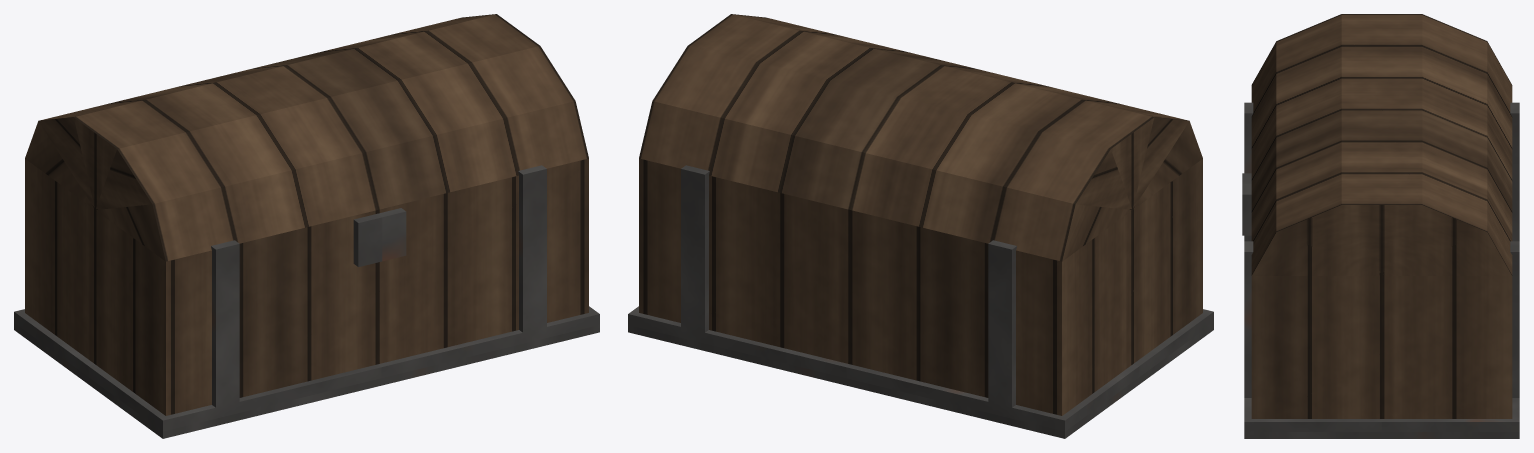
The model's file is Chest_Wood_LOD1.gltf.
The picture shows the model from 3 angles, left to right: view 1: azimuth 30°, elevation 25°; view 2: azimuth 150°, elevation 25°; view 3: azimuth 270°, elevation 25°; orthographic projection. The views are drawn at different scales.
Visible parts, largest first — view 1: Chest_Wood_LOD1; view 2: Chest_Wood_LOD1; view 3: Chest_Wood_LOD1.
Part boxes in pixels (left/top/right/bottom): Chest_Wood_LOD1: left=14, top=14, right=599, bottom=438; Chest_Wood_LOD1: left=628, top=14, right=1213, bottom=438; Chest_Wood_LOD1: left=1242, top=14, right=1519, bottom=438.
Bounding box in the file's own units: 1.28 × 0.6989 × 0.76.
2 materials, 2 textured.
